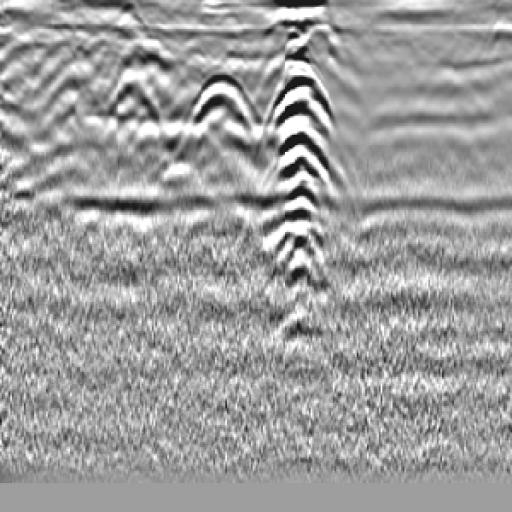metalic: (268, 33, 339, 324)
nonmetalic: (161, 71, 277, 179)
